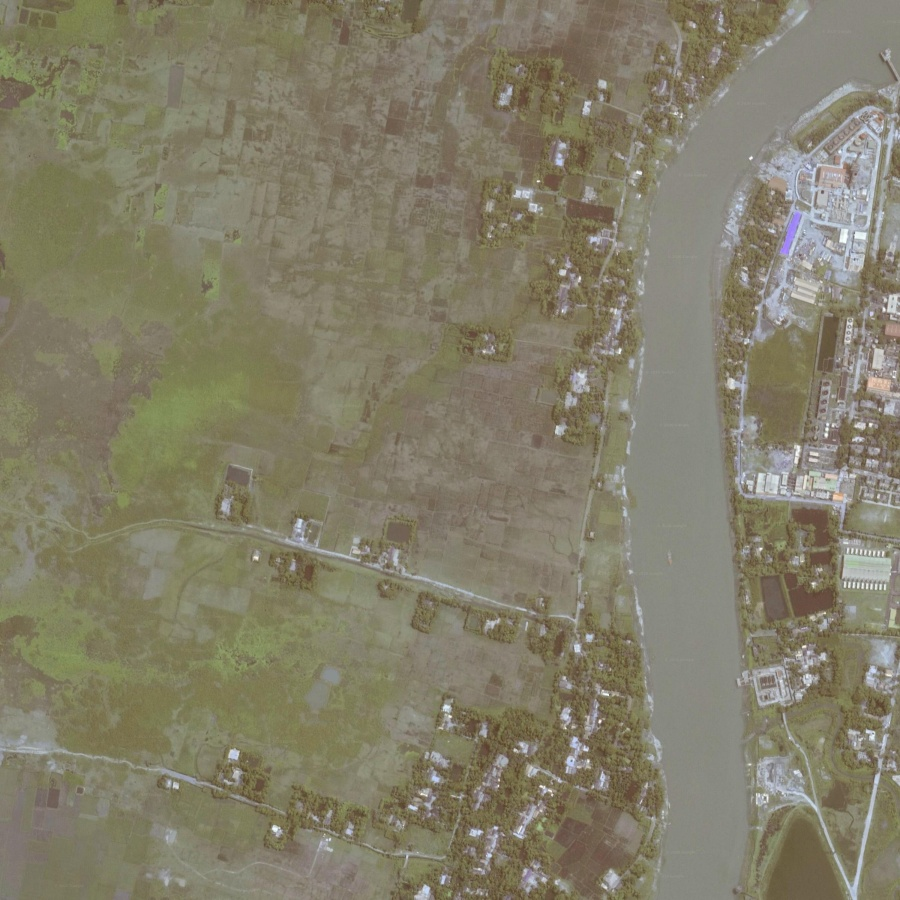PowerPlant: (807, 117, 878, 272)
